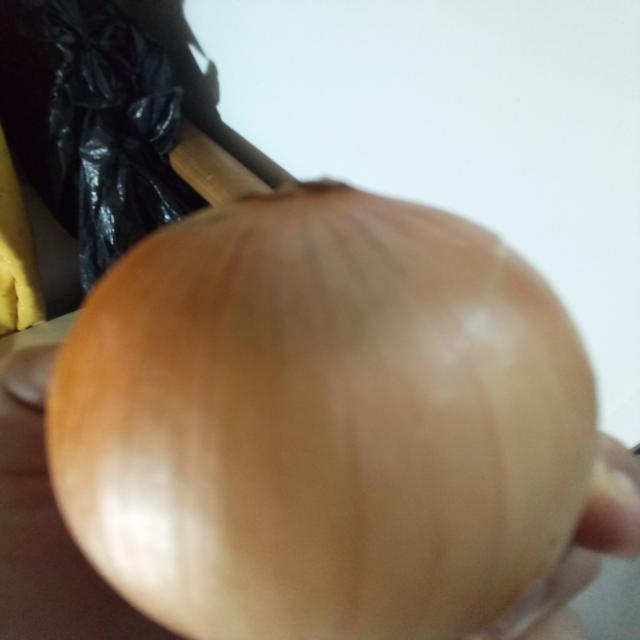Onion: (43, 179, 640, 640)
